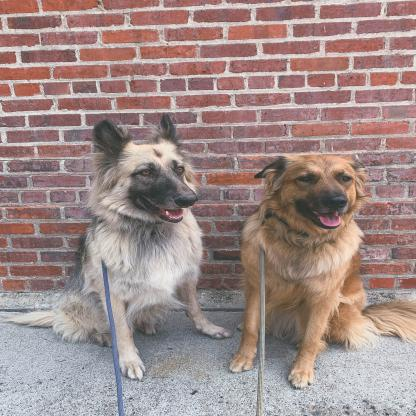german shepherd: (10, 115, 209, 376), (228, 158, 414, 390)
